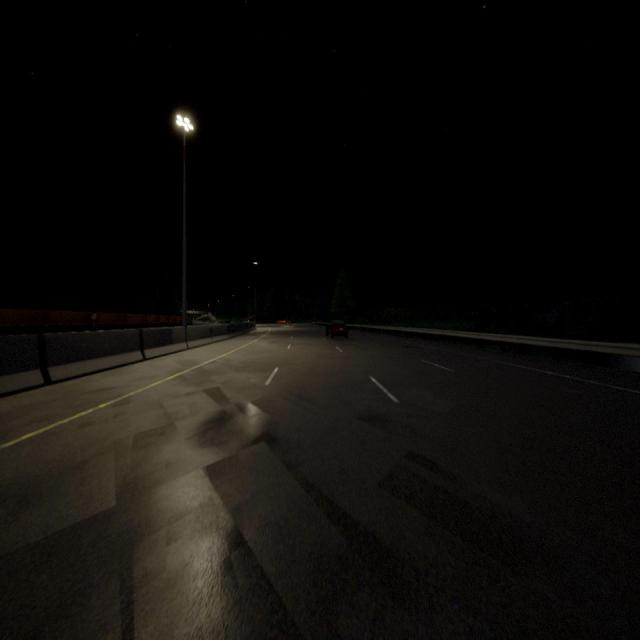Vehicle: (326, 320, 348, 338)
